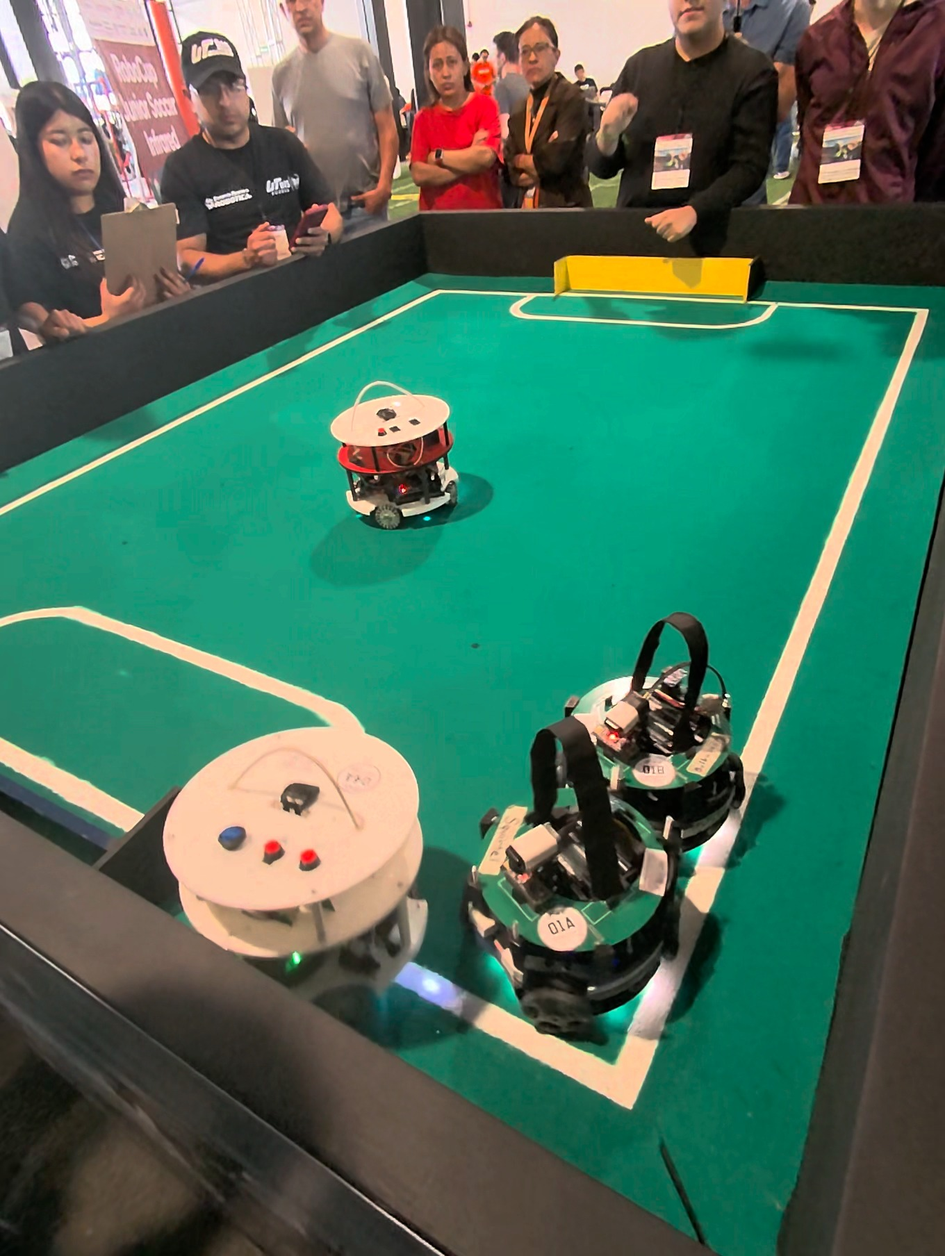Robot: (459, 684, 749, 1049), (167, 704, 466, 1039), (593, 590, 749, 857), (334, 366, 476, 546)
